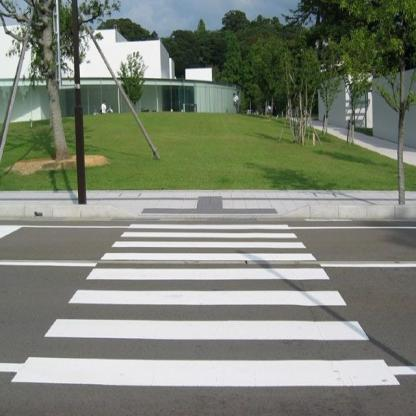Crosswalk: (13, 223, 398, 386)
